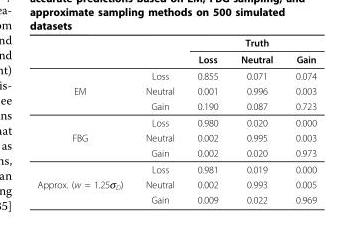table: (36, 36, 315, 204)
table column: (36, 36, 133, 204), (228, 36, 283, 204), (133, 36, 185, 204), (185, 36, 228, 204), (283, 36, 315, 204)
table column header: (36, 36, 315, 67)
table row: (36, 50, 315, 67), (36, 67, 315, 83), (36, 98, 315, 114), (36, 129, 315, 145), (36, 160, 315, 176), (36, 176, 315, 192), (36, 83, 315, 98), (36, 114, 315, 129), (36, 145, 315, 160), (36, 36, 315, 50), (36, 192, 315, 204)
table spanning cell: (36, 129, 133, 176), (36, 83, 133, 129), (36, 176, 133, 204), (228, 36, 283, 67), (185, 36, 228, 67), (283, 36, 315, 67)
